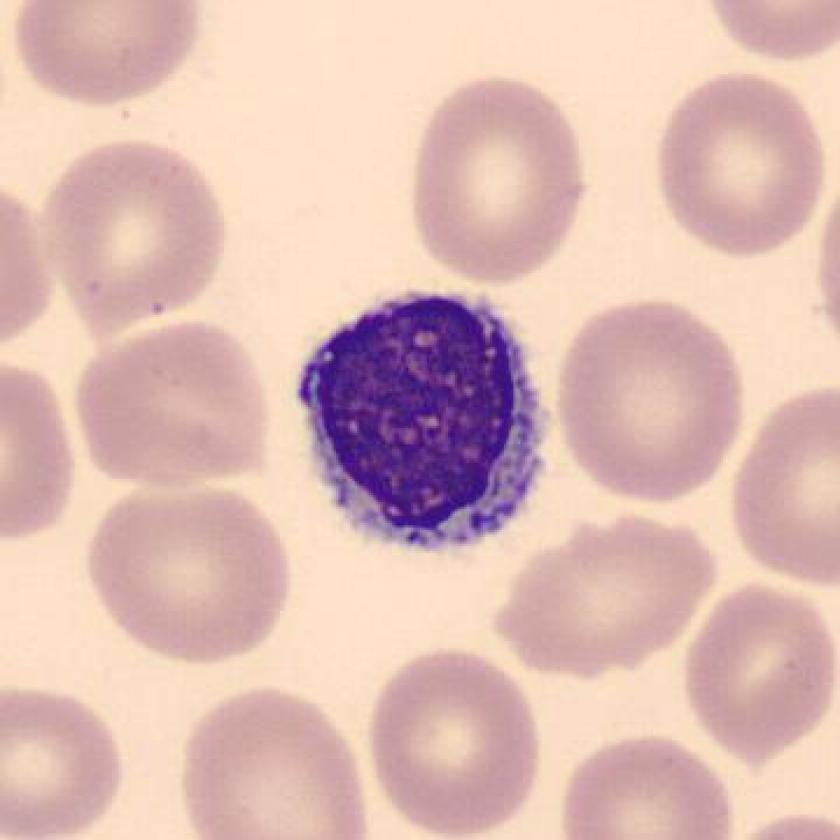lymphocyte: (288, 274, 570, 575)
